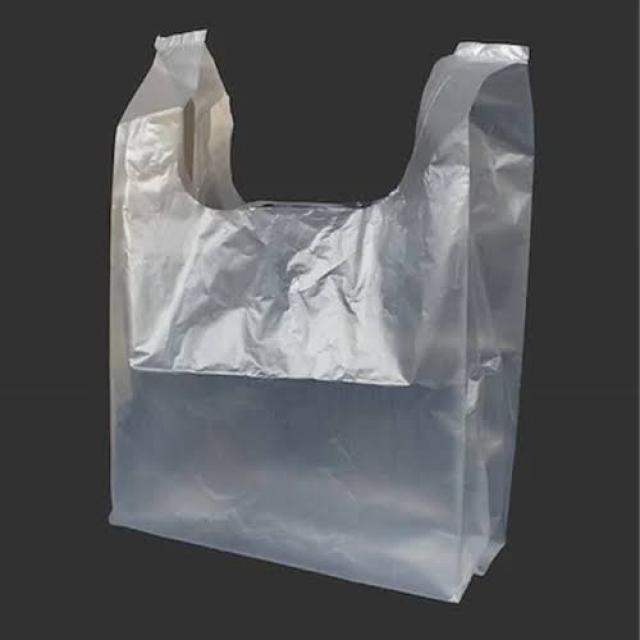plastic bag: (57, 34, 559, 612)
